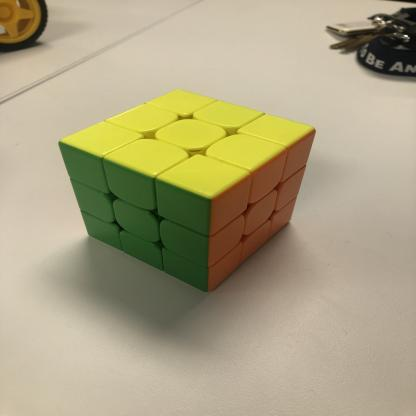SolvedCube: (51, 86, 323, 295)
